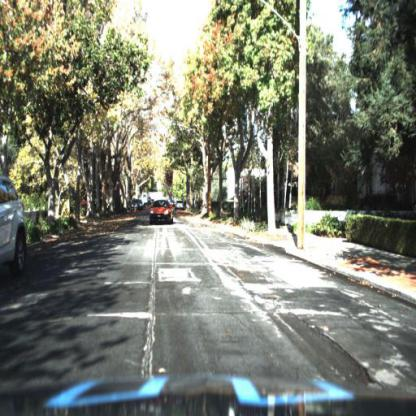car: (1, 172, 30, 284), (147, 195, 174, 226)
